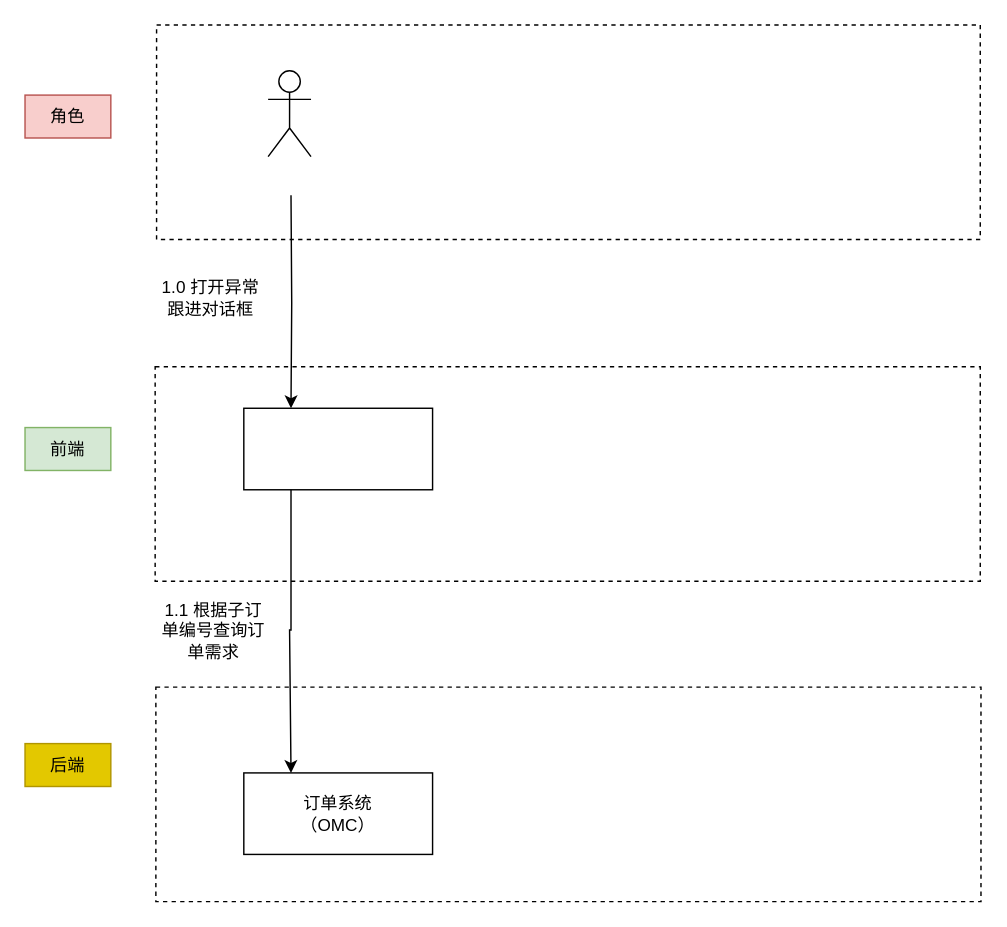
The diagram is 1007 pixels wide and 927 high, and some of its shapes have lost their labels. The centre of each missing label's shape, as x and y in pixels:
"交付运营" goes at pixel 289 113.
"运营管理平台 (ZMS)" goes at pixel 337 448.
